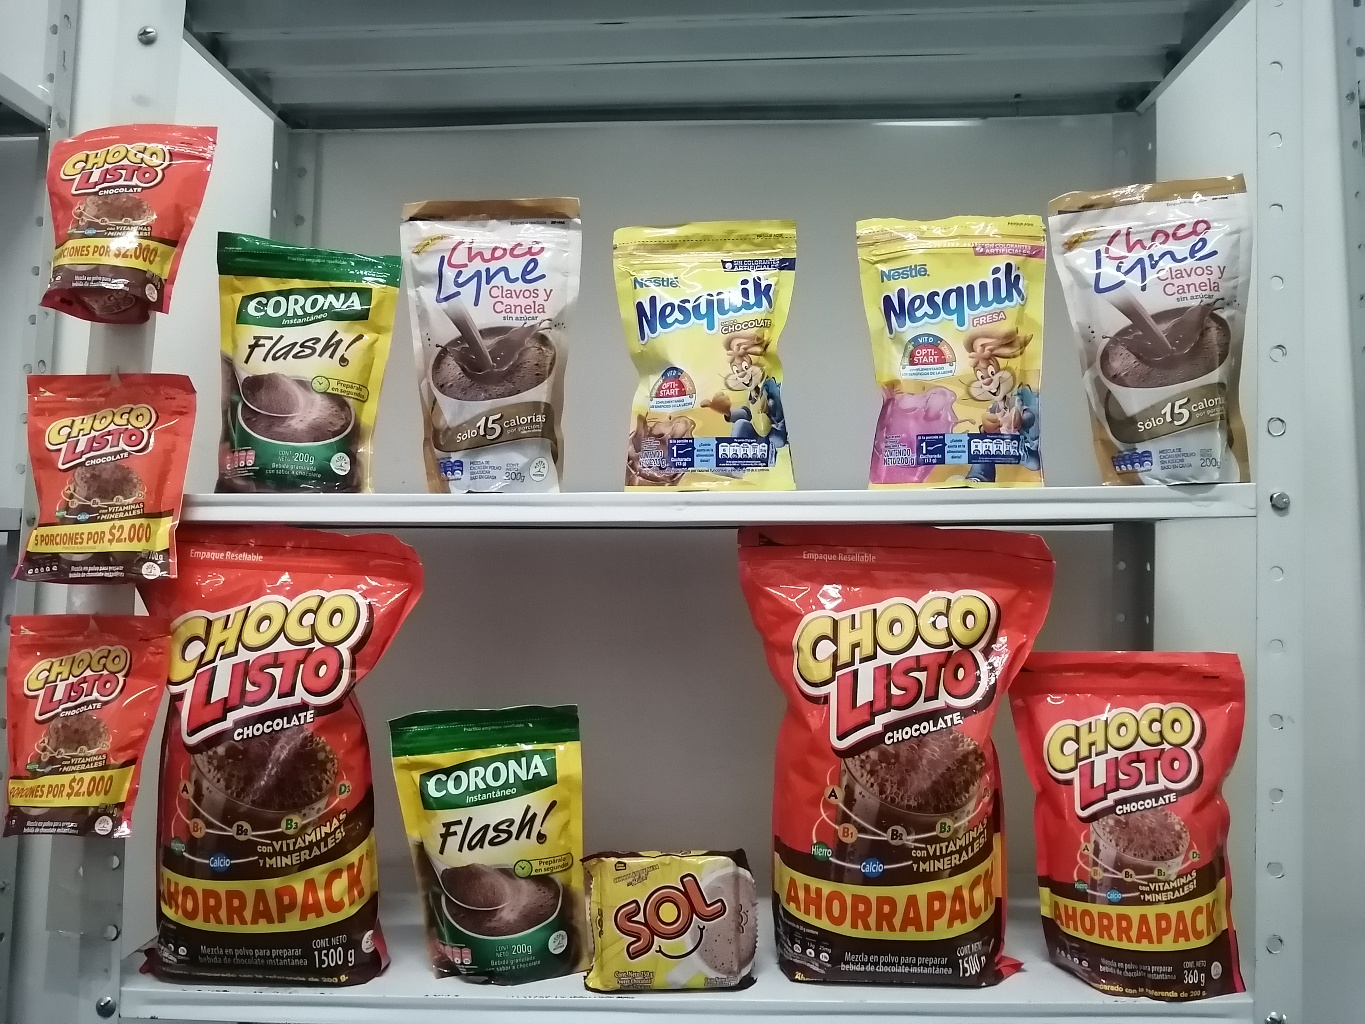COL0170103DYP1,500: (738, 513, 1094, 1006)
COL0170103DYP36000: (1014, 627, 1268, 1004)
COL0170303DYP20000: (591, 201, 828, 499)
COL0170305DYP20000: (843, 182, 1060, 489)
